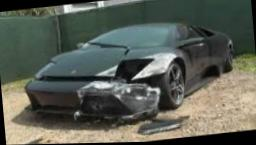Bonnet: (39, 45, 175, 79)
Bumper: (22, 78, 167, 118)
Fender: (134, 45, 190, 79)
Light: (113, 59, 153, 80)
